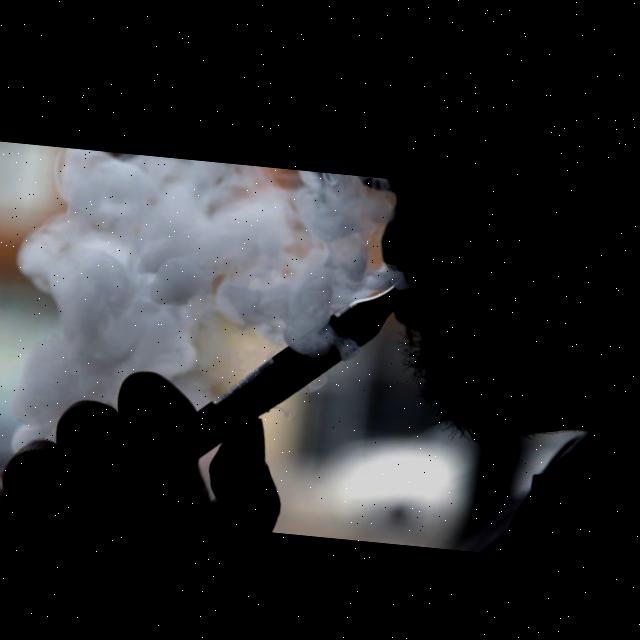vape: (194, 263, 410, 474)
